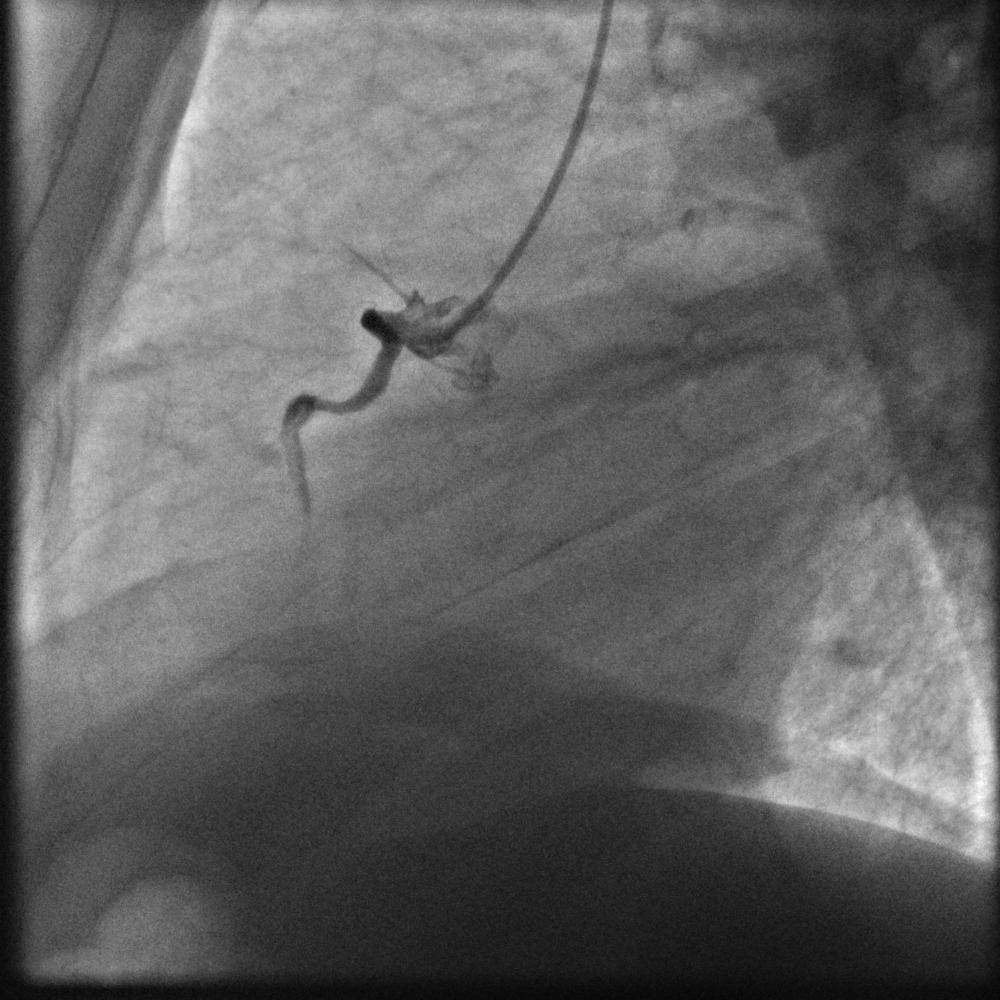Stenosis: (311, 393, 346, 416)
